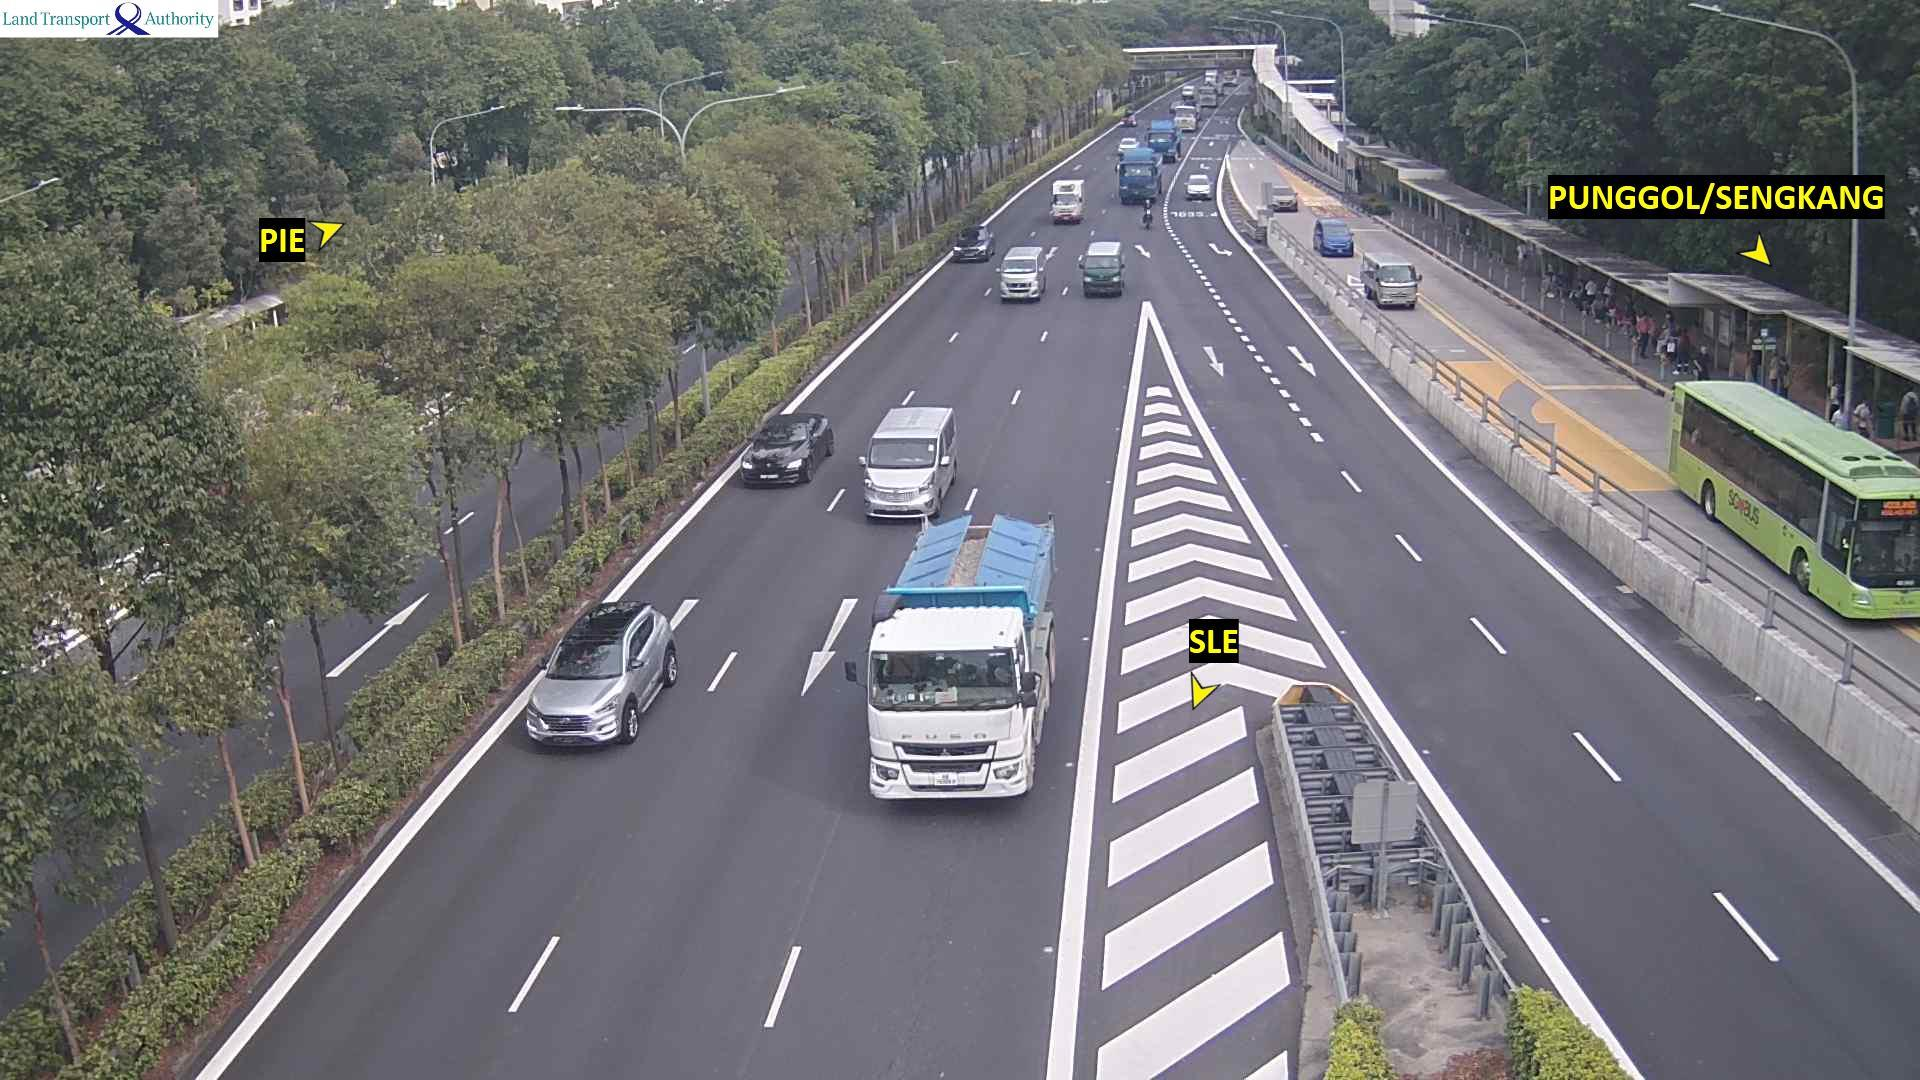bus: (1666, 378, 1919, 622)
cars: (524, 598, 678, 749), (857, 402, 957, 520), (738, 411, 834, 486), (1360, 256, 1421, 309), (1076, 239, 1126, 297), (995, 245, 1046, 301), (1312, 216, 1353, 257), (1143, 118, 1181, 162), (951, 224, 994, 261), (1266, 180, 1297, 211), (1168, 103, 1197, 132), (1184, 171, 1212, 200), (1116, 135, 1138, 155), (1219, 69, 1238, 89), (1119, 109, 1136, 127), (1179, 83, 1195, 101)
motorcycle: (1140, 197, 1154, 229)
trucks: (844, 510, 1057, 803), (1116, 146, 1162, 204), (1050, 178, 1084, 223)
